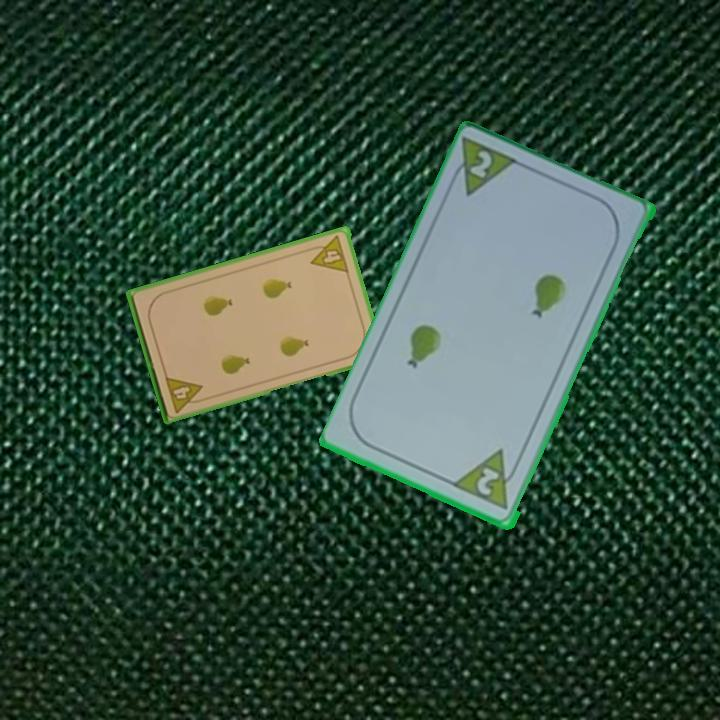2p: (452, 446, 525, 514), (466, 147, 496, 182)
4p: (304, 232, 352, 276), (161, 372, 208, 416)
